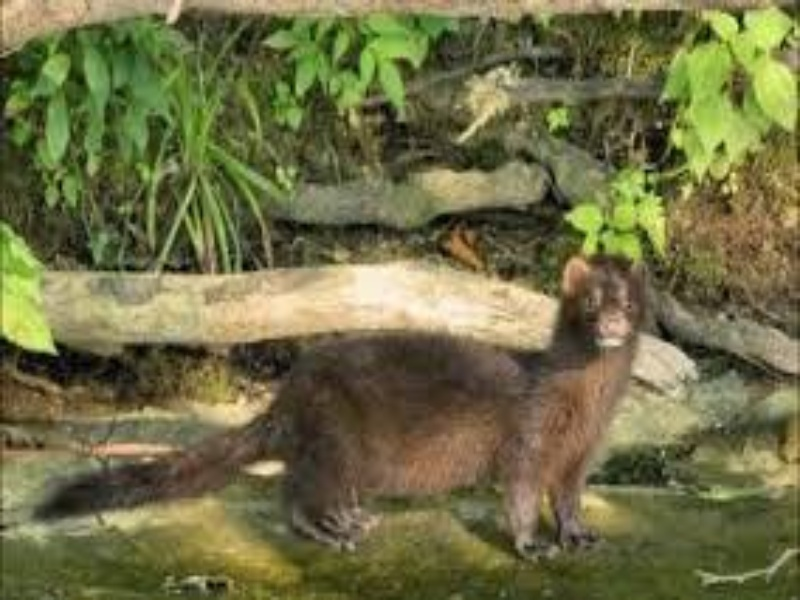minkish: (30, 251, 653, 560)
